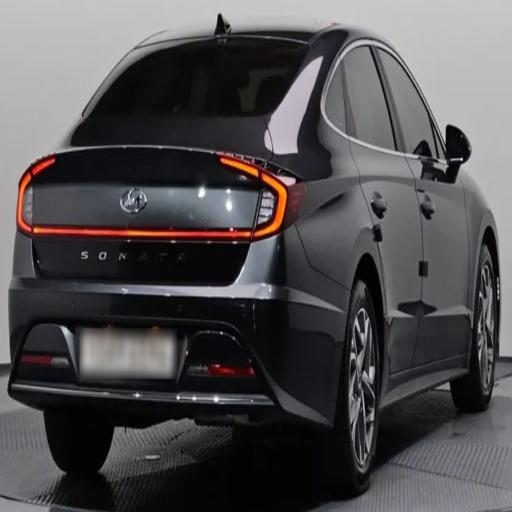scratch: (58, 209, 254, 302)
